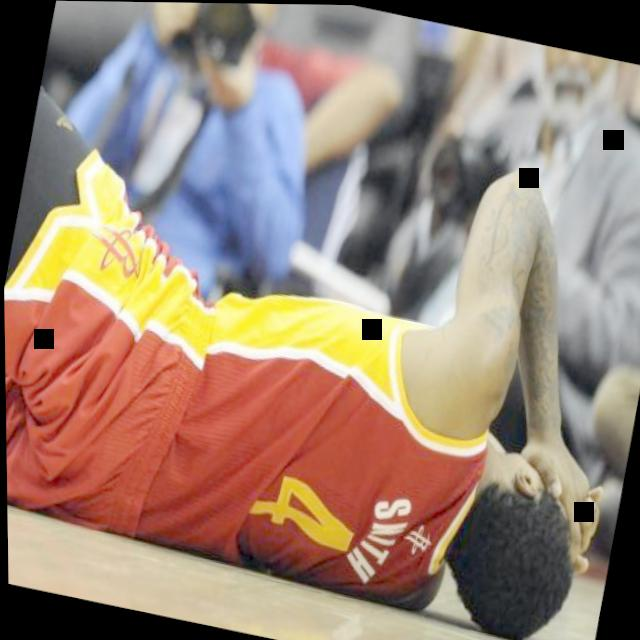Fall-Detected: (0, 21, 640, 640)
